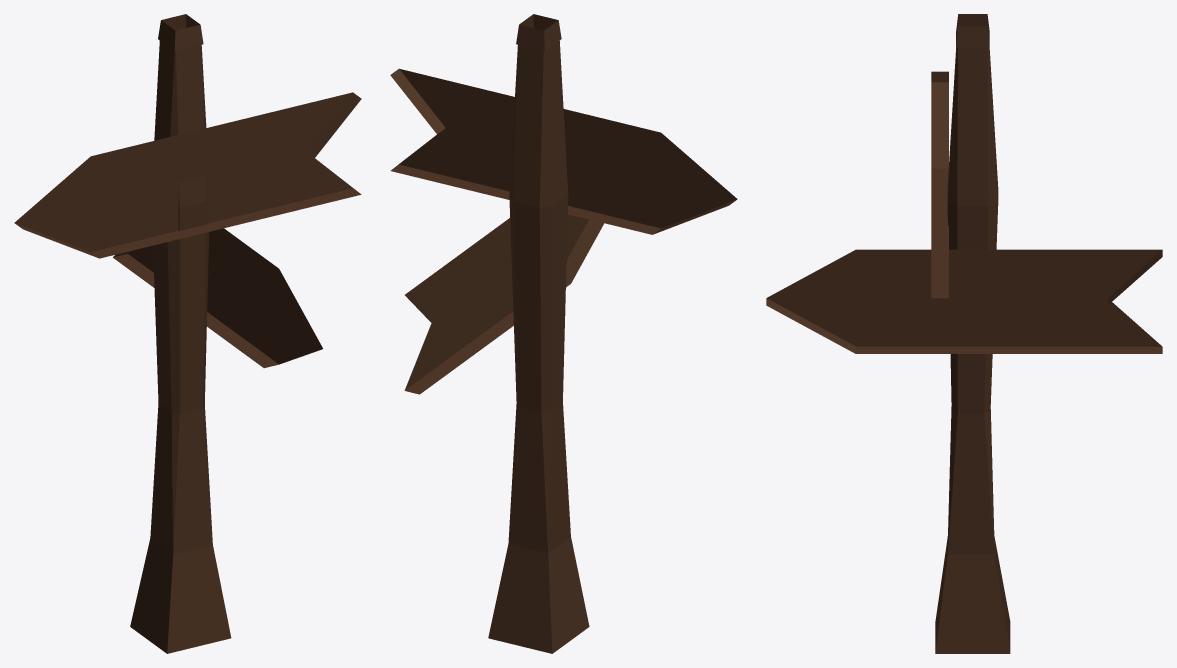
File: señal.fbx
3 renders of one model, left to right at view 1: azimuth 30°, elevation 25°; view 2: azimuth 150°, elevation 25°; view 3: azimuth 270°, elevation 25°, orthographic.
Parts seen in each view (by area): view 1: SEÑALETICA; view 2: SEÑALETICA; view 3: SEÑALETICA.
Part boxes in pixels (bbox=[...]): SEÑALETICA: bbox=[14, 14, 361, 653]; SEÑALETICA: bbox=[390, 14, 737, 653]; SEÑALETICA: bbox=[766, 14, 1162, 653].
Bounding box in the file's own units: 202 × 348 × 202.
